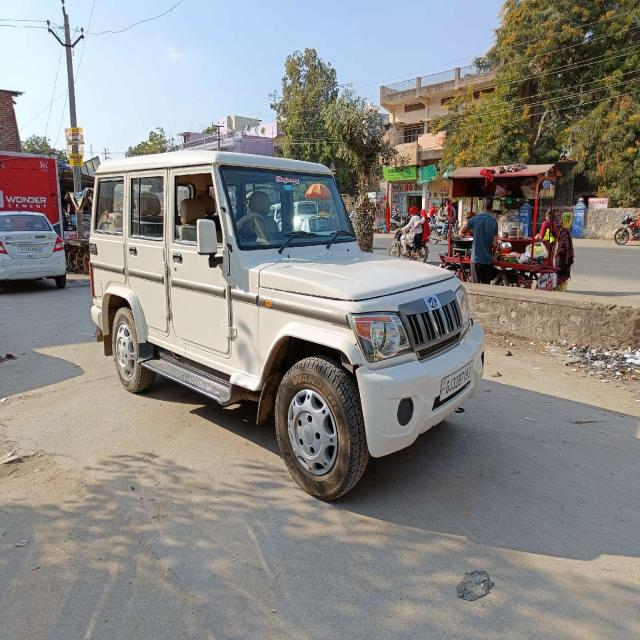light_vehicle: (89, 157, 478, 399)
